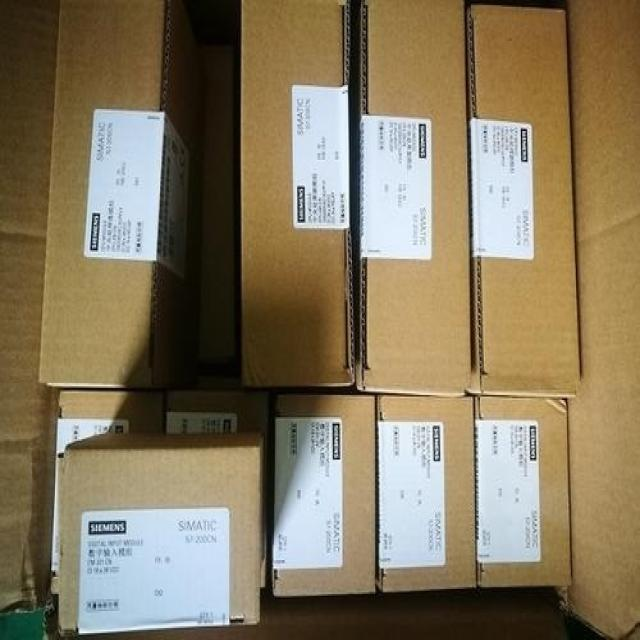box: (40, 1, 205, 390), (357, 2, 468, 394), (468, 7, 580, 395), (241, 1, 353, 388), (57, 431, 261, 633), (163, 365, 270, 587), (51, 389, 165, 593), (270, 394, 376, 597), (377, 397, 477, 591), (475, 395, 570, 587)
